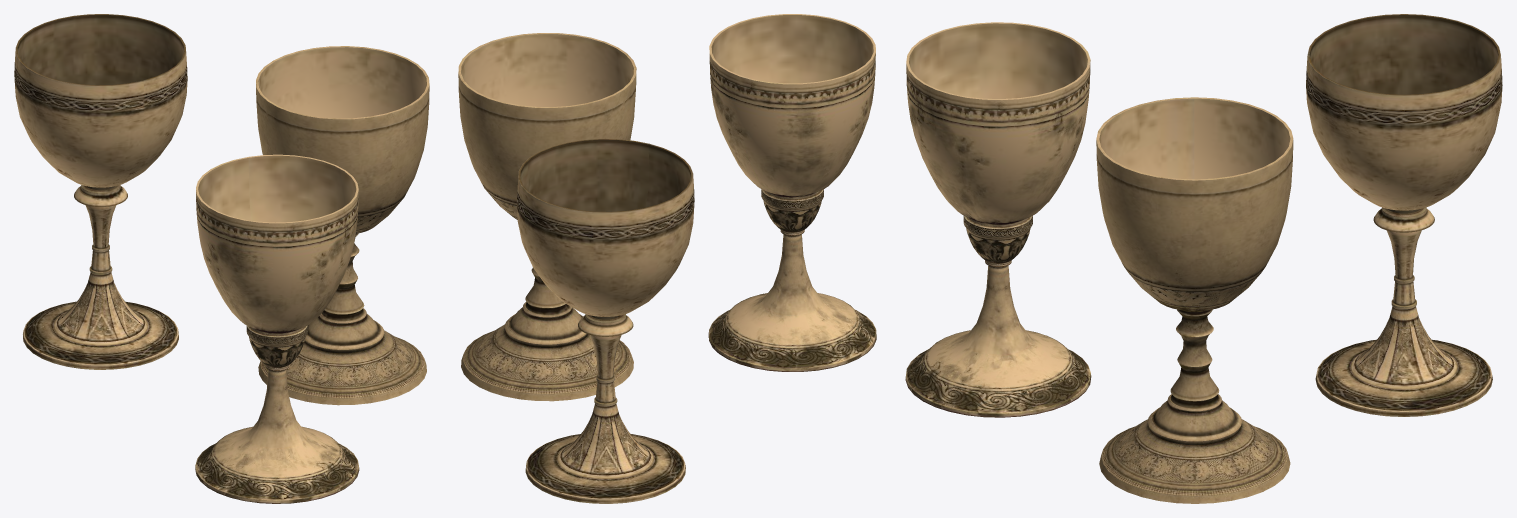
File: goblets-brass.glb
3 renders of one model, left to right at view 1: azimuth 30°, elevation 25°; view 2: azimuth 150°, elevation 25°; view 3: azimuth 270°, elevation 25°, orthographic. The views are drawn at different scales.
Parts seen in each view (by area): view 1: goblets-brass; view 2: goblets-brass; view 3: goblets-brass.
Boxes of the visible parts, x1,y1,x2,y2 form: goblets-brass: [14, 14, 429, 503]; goblets-brass: [458, 14, 876, 503]; goblets-brass: [905, 14, 1502, 503].
Size of the model in its own units: 0.2976 by 0.2734 by 0.4534.
3 materials, 3 textured.
